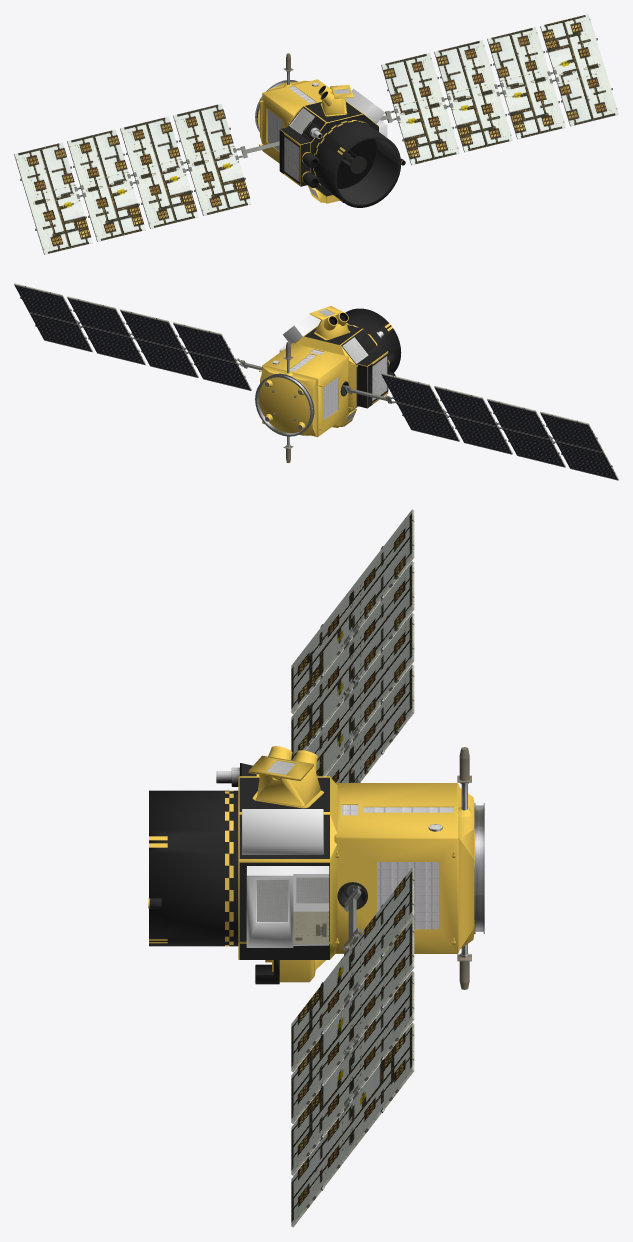
Rendered from calipso.gltf.
The picture shows the model from 3 angles, top to bottom: view 1: azimuth 30°, elevation 25°; view 2: azimuth 150°, elevation 25°; view 3: azimuth 270°, elevation 25°; orthographic projection. The views are drawn at different scales.
Visible parts, largest first — view 1: tex_01, krinkle, BUS, shiny_panel, foil_silver; view 2: shiny_panel, BUS, tex_01, krinkle, foil_silver; view 3: tex_01, BUS, krinkle, foil_silver, shiny_panel.
Part boxes in pixels (x1,y1,x2,y2): tex_01: (14, 14, 618, 254); krinkle: (279, 102, 405, 207); BUS: (257, 79, 402, 203); shiny_panel: (267, 86, 349, 198); foil_silver: (289, 88, 387, 192); shiny_panel: (14, 284, 618, 480); BUS: (258, 306, 392, 437); tex_01: (14, 283, 618, 480); krinkle: (304, 308, 401, 412); foil_silver: (279, 310, 368, 412); tex_01: (216, 509, 484, 1227); BUS: (148, 746, 474, 982); krinkle: (149, 763, 329, 984); foil_silver: (242, 809, 329, 947); shiny_panel: (257, 760, 453, 929).
Size of the model in its own units: 9.77 by 1.94 by 2.46.
6 materials, 2 textured.
